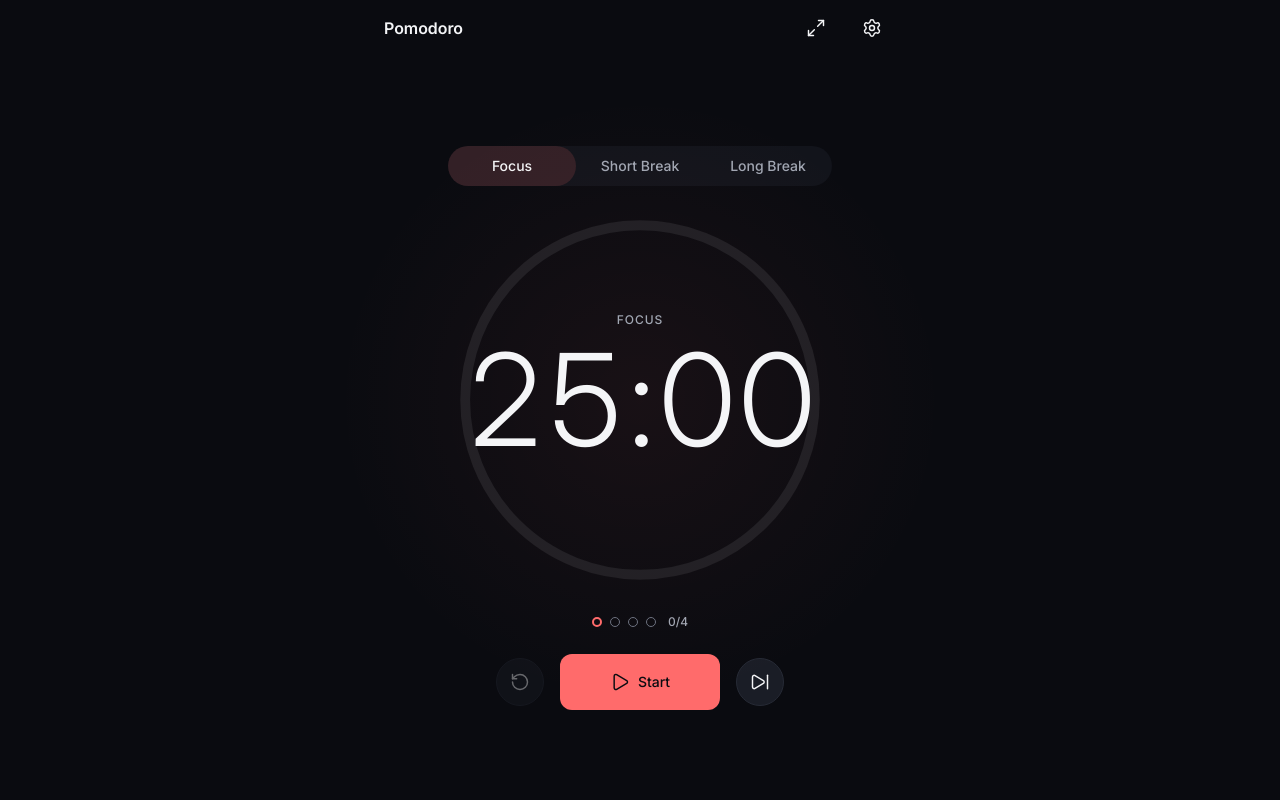
Test: SettingsSheet (POMO-AC11-POMO-AC13, POMO-AC24, POMO-AC26) › rejects 0 in Focus on Save: error shown, nothing written
Click the button named "Open settings": (872, 28) [848, 4, 896, 52]
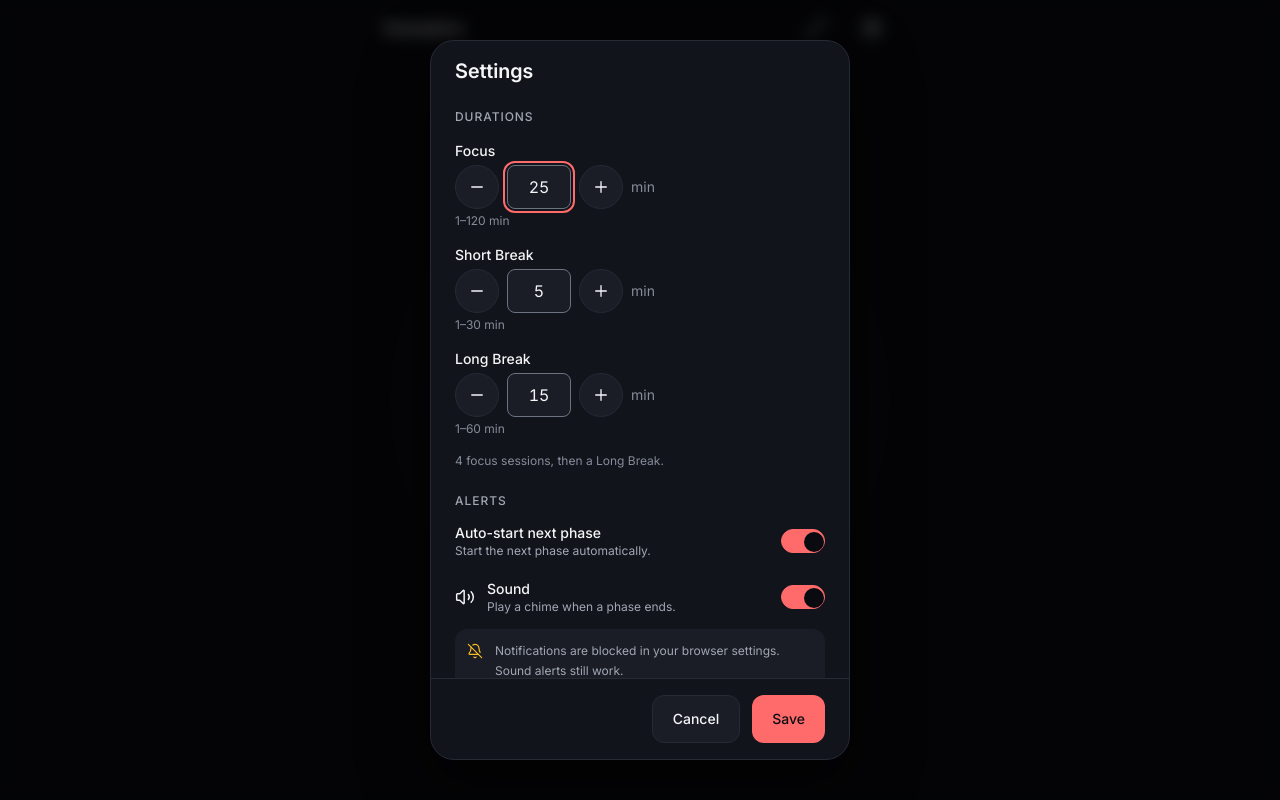
Replace the text in the field labelled "Focus" with "0": (539, 187) [507, 165, 571, 209]
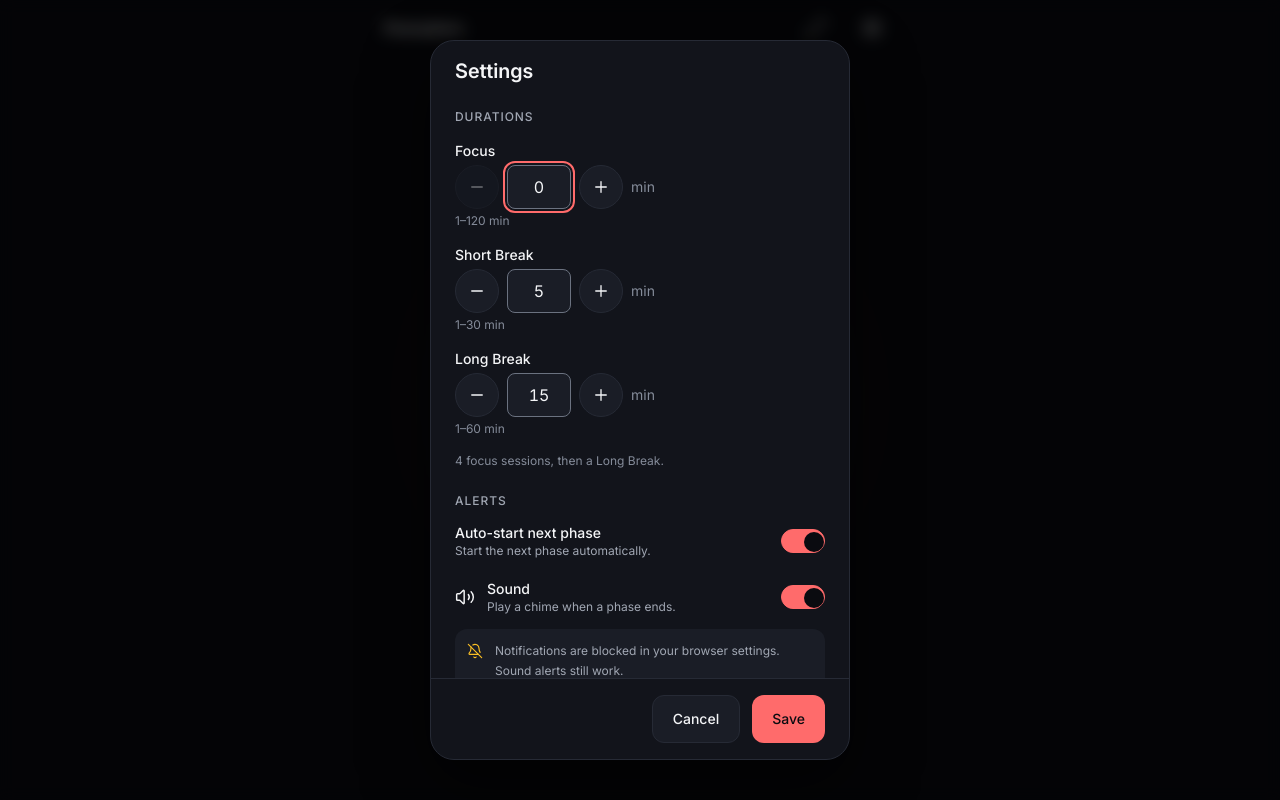
Click the button "Save": (789, 719) [752, 695, 825, 743]
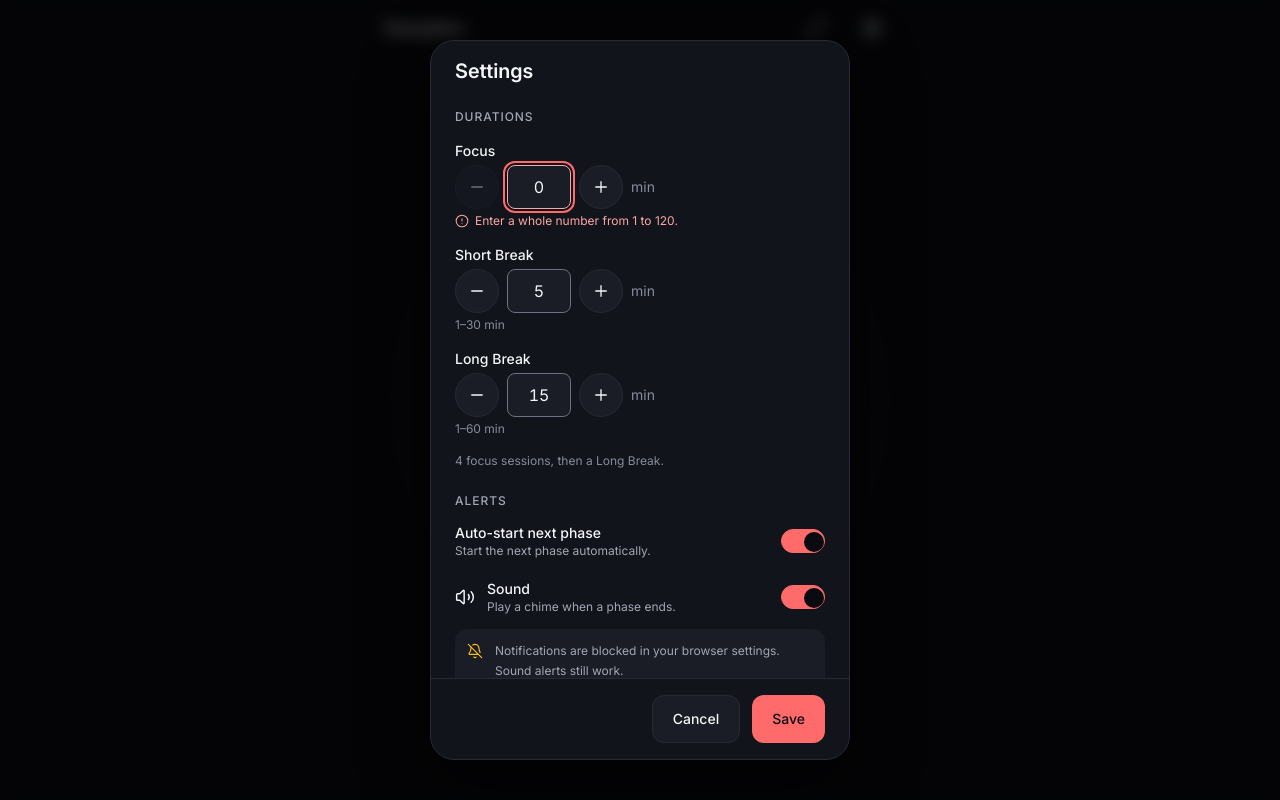
Expected: the text "25:00" is shown, [464, 336, 816, 464]
Expected: the dialog is shown, [430, 40, 850, 760]
Expected: the text "Enter a whole number from 1 to 120." is shown, [455, 213, 678, 228]
